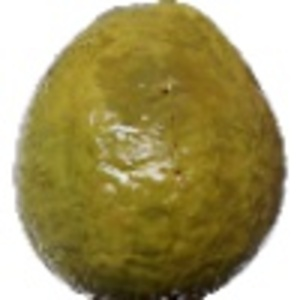goiaba: (10, 5, 287, 299)
